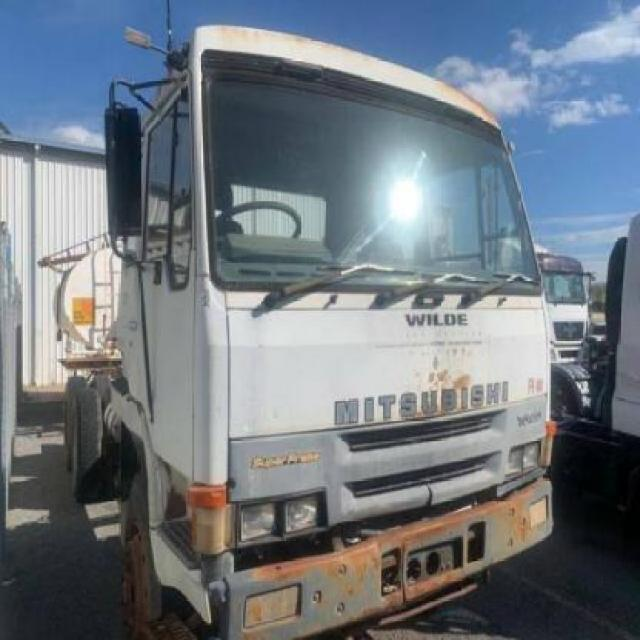truck: (60, 20, 557, 640)
